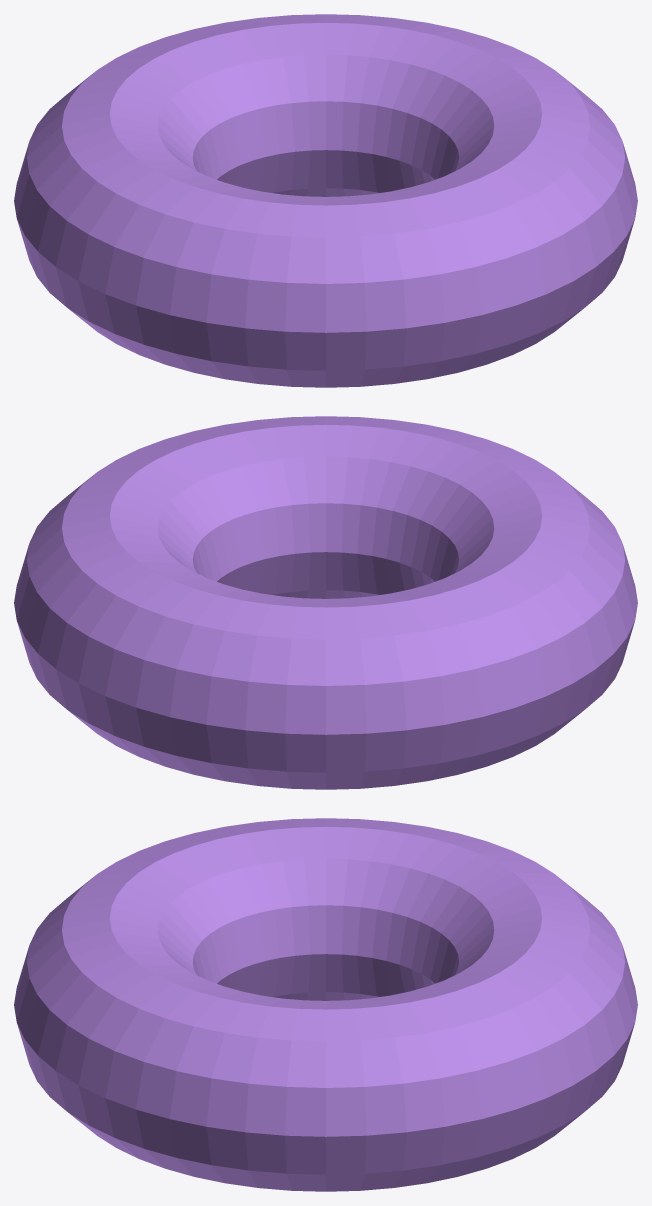
3 renders of one model, top to bottom at view 1: azimuth 30°, elevation 25°; view 2: azimuth 150°, elevation 25°; view 3: azimuth 270°, elevation 25°, orthographic.
Parts seen in each view (by area): view 1: Torus; view 2: Torus; view 3: Torus.
Part boxes in pixels (bbox=[...]): Torus: bbox=[14, 14, 637, 387]; Torus: bbox=[14, 416, 637, 789]; Torus: bbox=[14, 818, 637, 1191].
Size of the model in its own units: 228 by 70 by 228.
